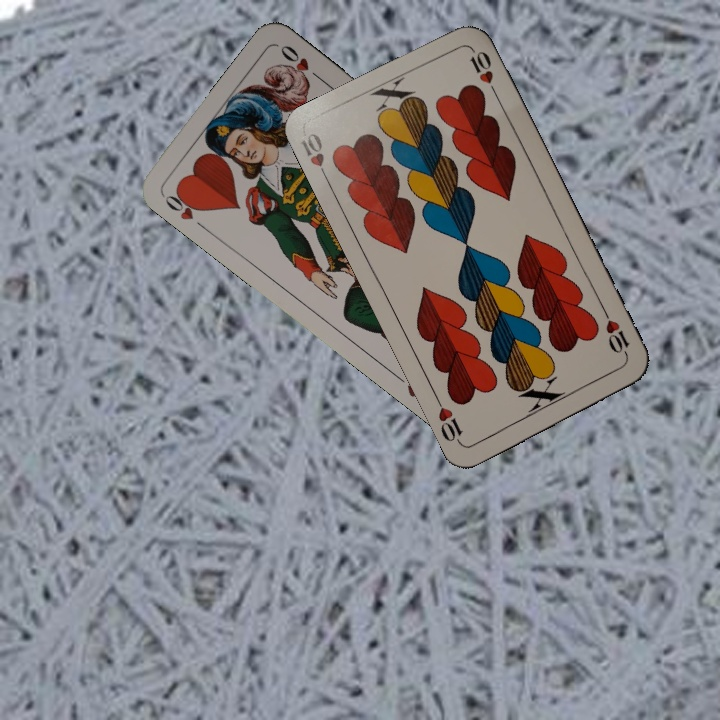H10: (296, 128, 333, 186), (599, 305, 632, 361)
HO: (160, 185, 209, 233)
